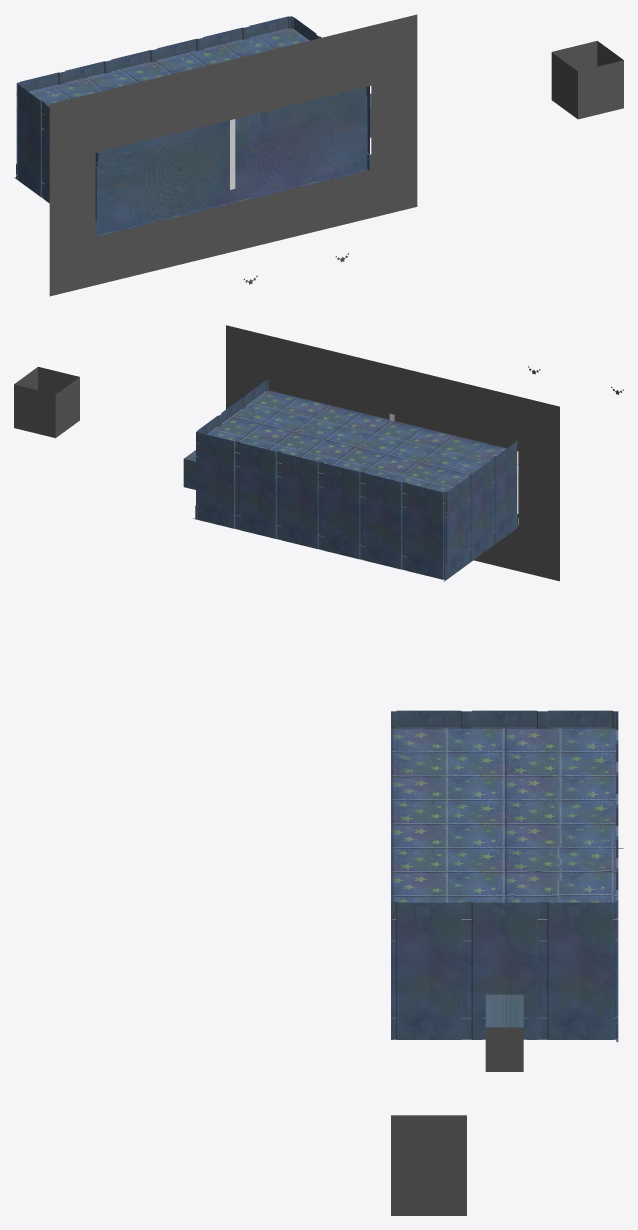
The model's file is las_11_bake.dae.
3 views of the same model, one above another, from view 1: azimuth 30°, elevation 25°; view 2: azimuth 150°, elevation 25°; view 3: azimuth 270°, elevation 25° (orthographic). The views are drawn at different scales.
Parts seen in each view (by area): view 1: polySurface387_q00073, pCube4_q00013, pCube1_q00011, pCube1_q00056, polySurface216_q00002, pCube3_q00050, w_bero_1, pCube3_q00051, pCube3_q00028, pCube1_q00057, pCube3_q00023, pCube3_q00027 (+4 smaller); view 2: polySurface387_q00073, pCube1_q00056, pCube1_q00011, pCube3_q00023, pCube3_q00024, pCube3_q00028, pCube3_q00026, pCube3_q00027, pCube3_q00025, polySurface216_q00002, pCube3_q00049, pCube3_q00051 (+3 smaller); view 3: pCube1_q00056, pCube3_q00039, pCube3_q00038, pCube3_q00037, pCube1_q00011, polySurface216_q00002, w_bero_1, polySurface204_q00000, pCube3_q00051, pCube3_q00049, pCube3_q00050, pCube3_q00007.
Boxes of the visible parts, x1,y1,x2,y2 form: polySurface387_q00073: [49, 14, 417, 296]; pCube4_q00013: [96, 87, 367, 234]; pCube1_q00011: [30, 29, 305, 106]; pCube1_q00056: [16, 28, 309, 115]; polySurface216_q00002: [552, 41, 623, 119]; pCube3_q00050: [14, 82, 43, 197]; w_bero_1: [551, 52, 577, 118]; pCube3_q00051: [41, 102, 49, 203]; pCube3_q00028: [16, 72, 62, 164]; pCube1_q00057: [43, 169, 368, 236]; pCube3_q00023: [200, 27, 246, 50]; pCube3_q00027: [62, 61, 108, 83]; polySurface387_q00073: [226, 325, 559, 581]; pCube1_q00056: [196, 390, 517, 503]; pCube1_q00011: [252, 392, 504, 491]; pCube3_q00023: [234, 442, 279, 539]; pCube3_q00024: [276, 452, 321, 549]; pCube3_q00028: [402, 482, 446, 579]; pCube3_q00026: [318, 462, 362, 559]; pCube3_q00027: [360, 472, 404, 569]; pCube3_q00025: [193, 431, 237, 528]; polySurface216_q00002: [14, 366, 79, 437]; pCube3_q00049: [492, 440, 517, 546]; pCube3_q00051: [469, 458, 492, 562]; pCube1_q00056: [391, 727, 618, 919]; pCube3_q00039: [391, 902, 466, 1039]; pCube3_q00038: [537, 902, 616, 1039]; pCube3_q00037: [462, 902, 542, 1039]; pCube1_q00011: [396, 729, 613, 902]; polySurface216_q00002: [391, 1147, 466, 1215]; w_bero_1: [391, 1115, 466, 1147]; polySurface204_q00000: [485, 1027, 523, 1071]; pCube3_q00051: [467, 710, 542, 728]; pCube3_q00049: [391, 710, 466, 728]; pCube3_q00050: [542, 710, 623, 848]; pCube3_q00007: [486, 994, 522, 1027].
Size of the model in its own units: 125 by 40 by 80.55.
